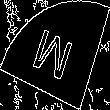M_S: (31, 22, 79, 88)
